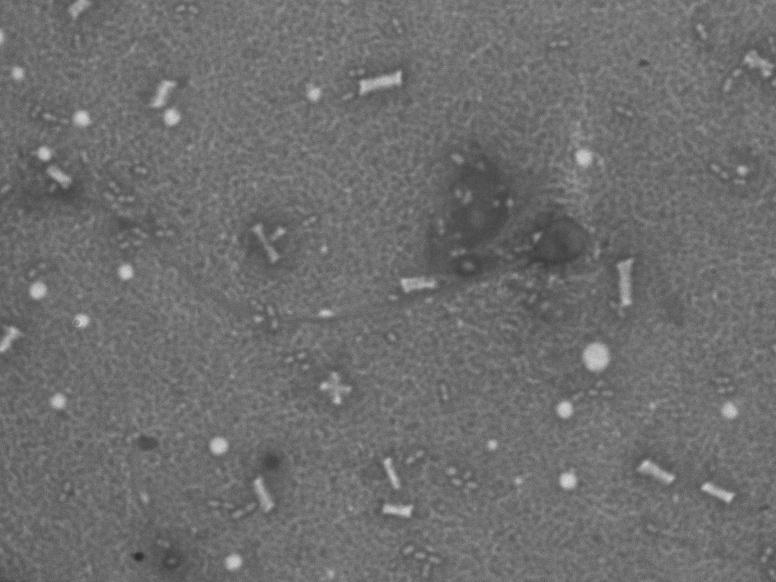Abnormal: (85, 146, 628, 358)
